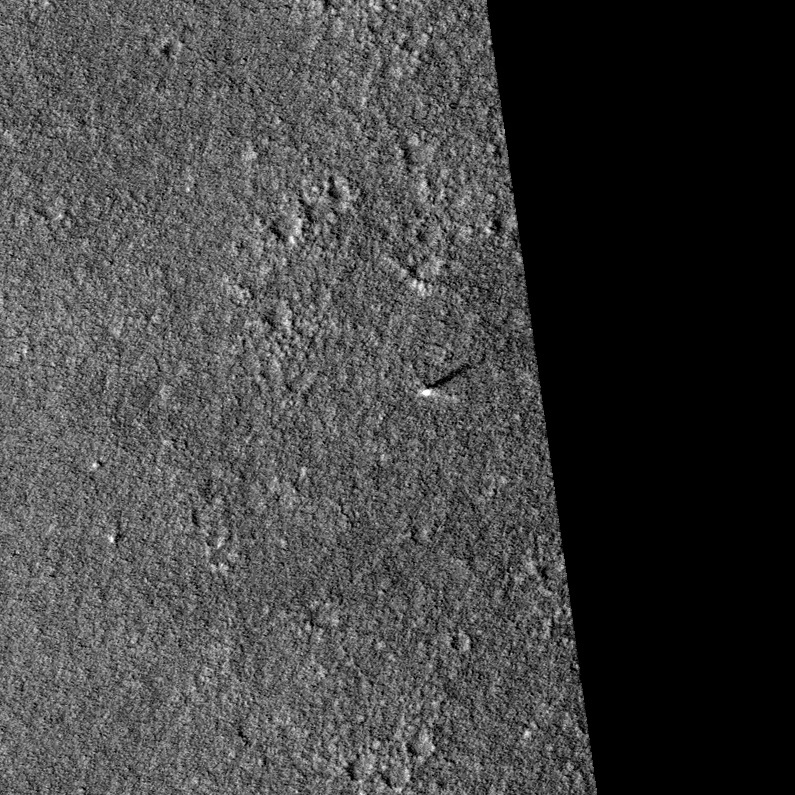dust_devil: (419, 359, 475, 399)
